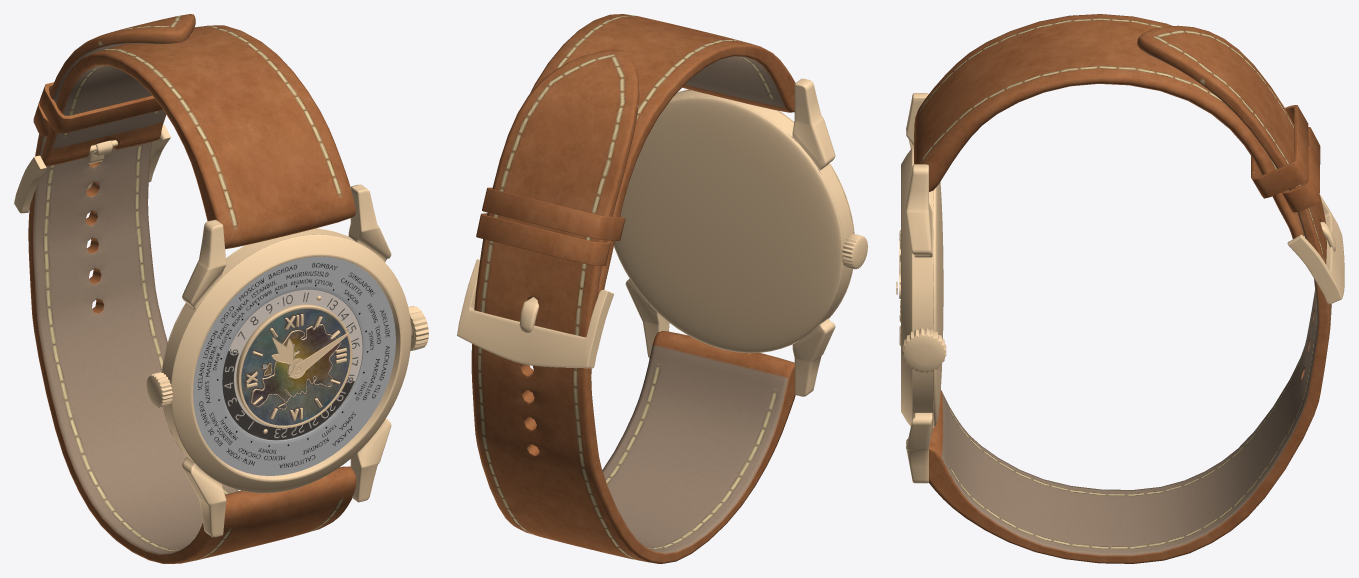
File: patek.obj
3 views of the same model, side by side, from view 1: azimuth 30°, elevation 25°; view 2: azimuth 150°, elevation 25°; view 3: azimuth 270°, elevation 25° (orthographic).
Parts seen in each view (by area): view 1: with_uv_Object003, Object002, Object001, Hand_1; view 2: with_uv_Object003, Object003, Object002; view 3: with_uv_Object003, Object002, Object003.
Boxes of the visible parts, bbox=[...] form: with_uv_Object003: bbox=[14, 14, 428, 563]; Object002: bbox=[162, 184, 391, 537]; Object001: bbox=[271, 337, 305, 378]; Hand_1: bbox=[288, 332, 349, 377]; with_uv_Object003: bbox=[457, 14, 867, 563]; Object003: bbox=[614, 96, 843, 353]; Object002: bbox=[625, 78, 853, 396]; with_uv_Object003: bbox=[899, 14, 1344, 563]; Object002: bbox=[906, 93, 933, 483]; Object003: bbox=[933, 182, 943, 427].
Bounding box in the file's own units: 2.24 × 3.93 × 3.21.
